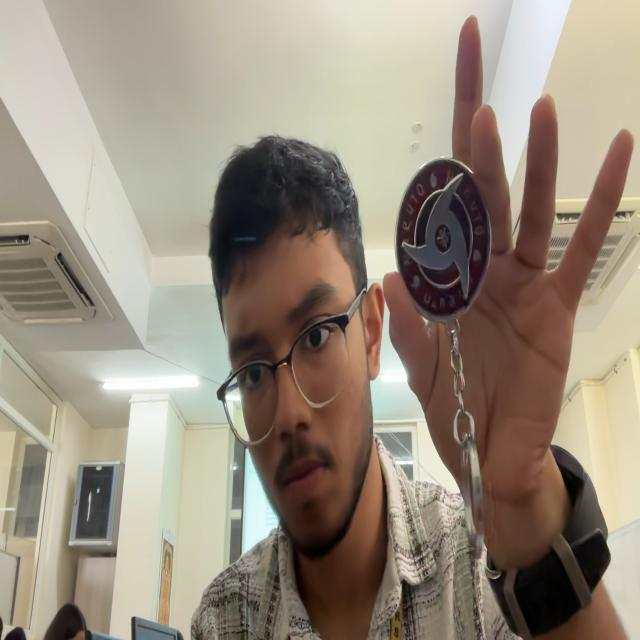dangerous: (395, 159, 491, 564)
